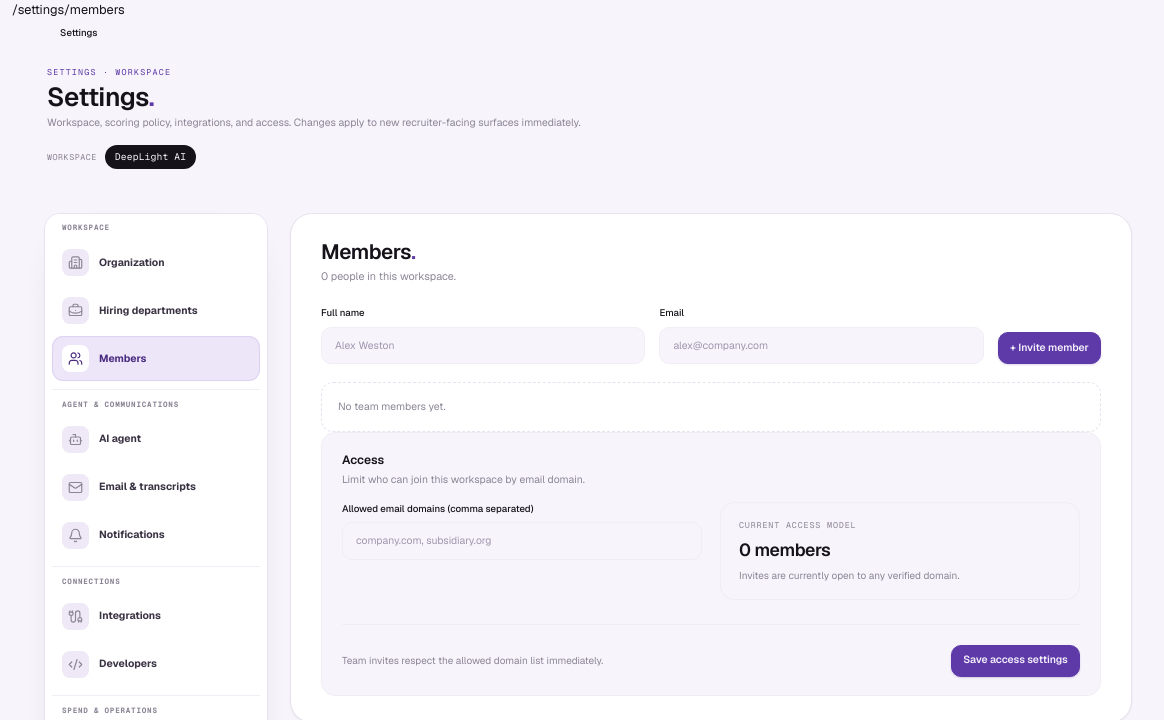
Test: SettingsPage recruiter surface › appends the new row and toasts success after inviting a member
Check: the heading "Members." is shown, box top-left (321, 238), bottom-right (415, 265)
Type "New Recruiter" into the field with placeholder "Alex Weston" at (483,346), box top-left (321, 327), bottom-right (645, 364)
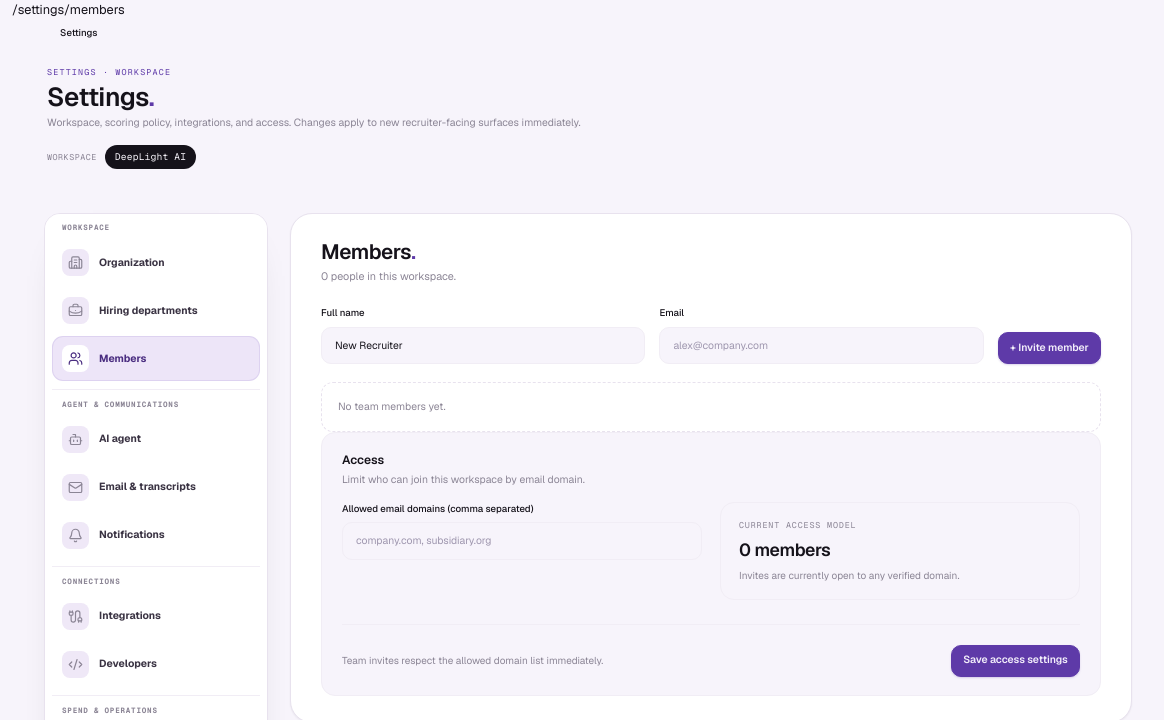
Type "new@deeplight.ai" into the field with placeholder "alex@company.com" at (822,346), box top-left (659, 327), bottom-right (984, 364)
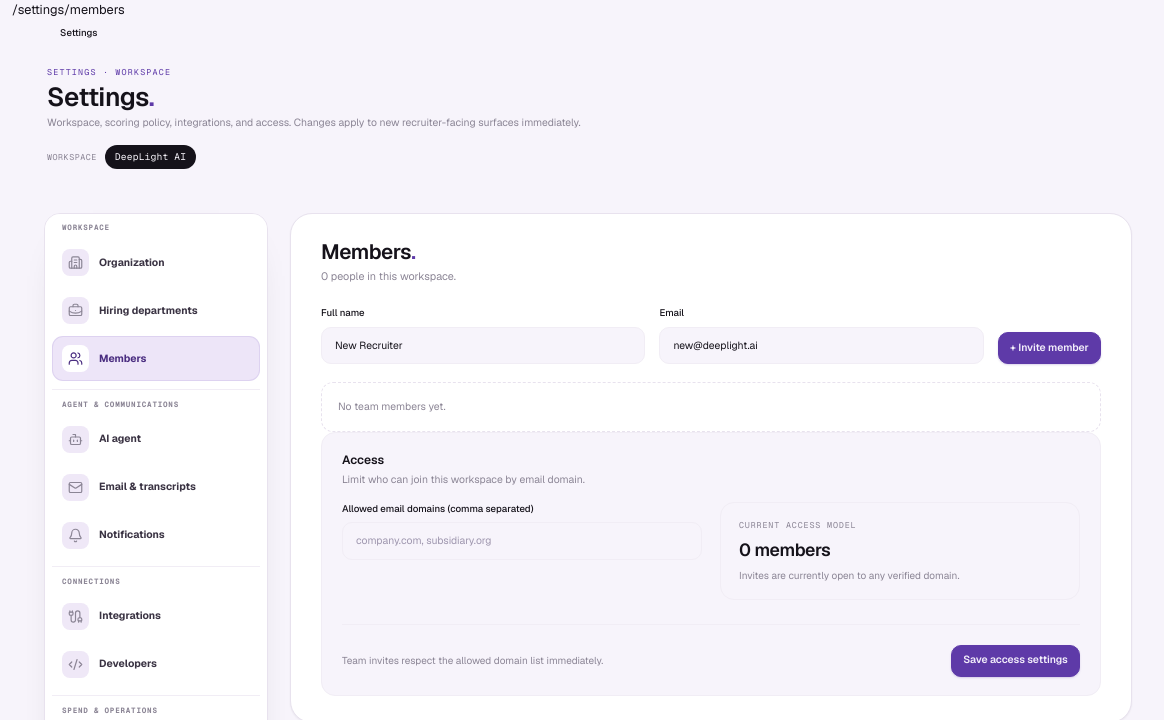
Click the button "+ Invite member" at (1049,348), box top-left (998, 332), bottom-right (1101, 364)
(page scrolled)
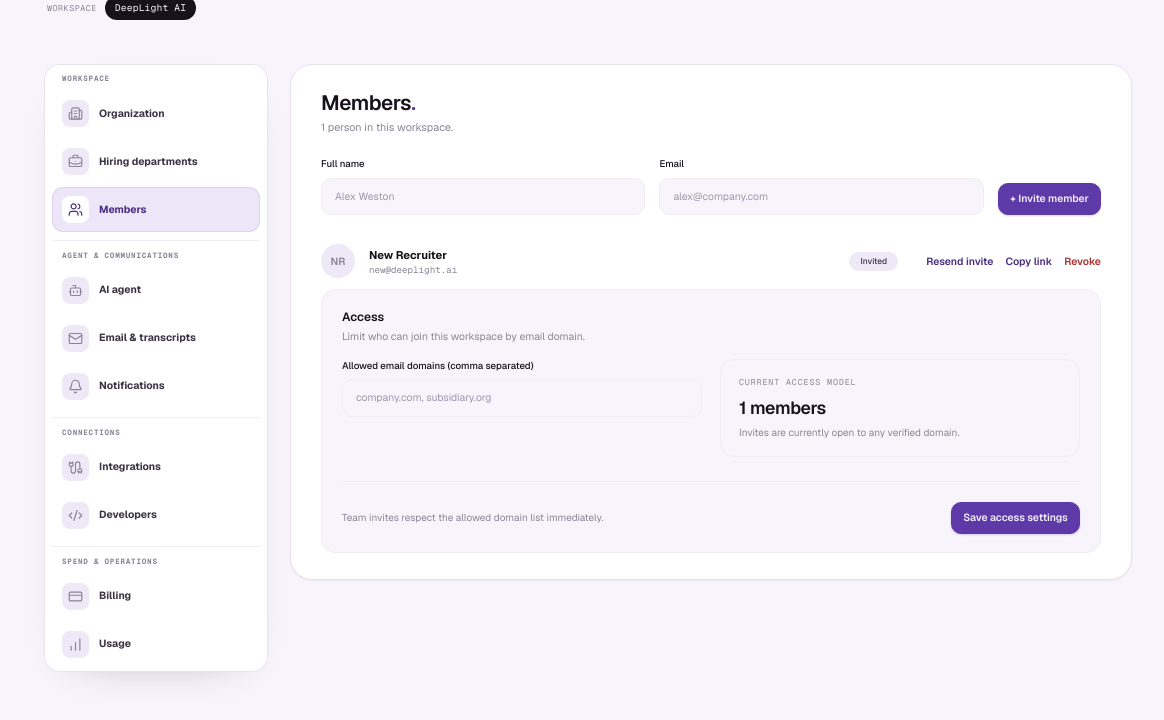
Check: the text "New Recruiter" is shown, box top-left (369, 248), bottom-right (447, 262)
